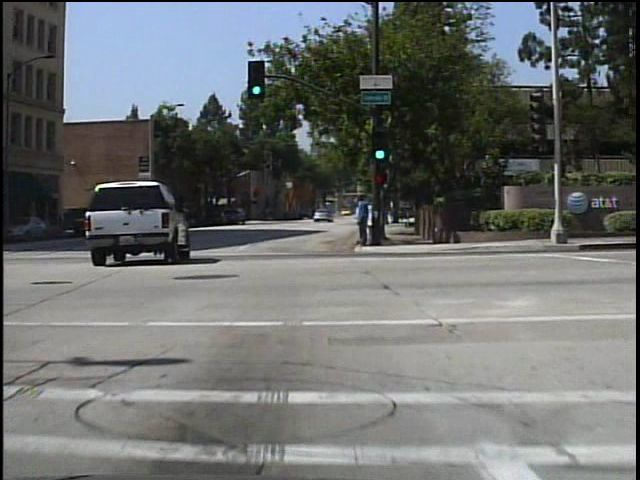person: (351, 193, 371, 249), (359, 196, 377, 248)
